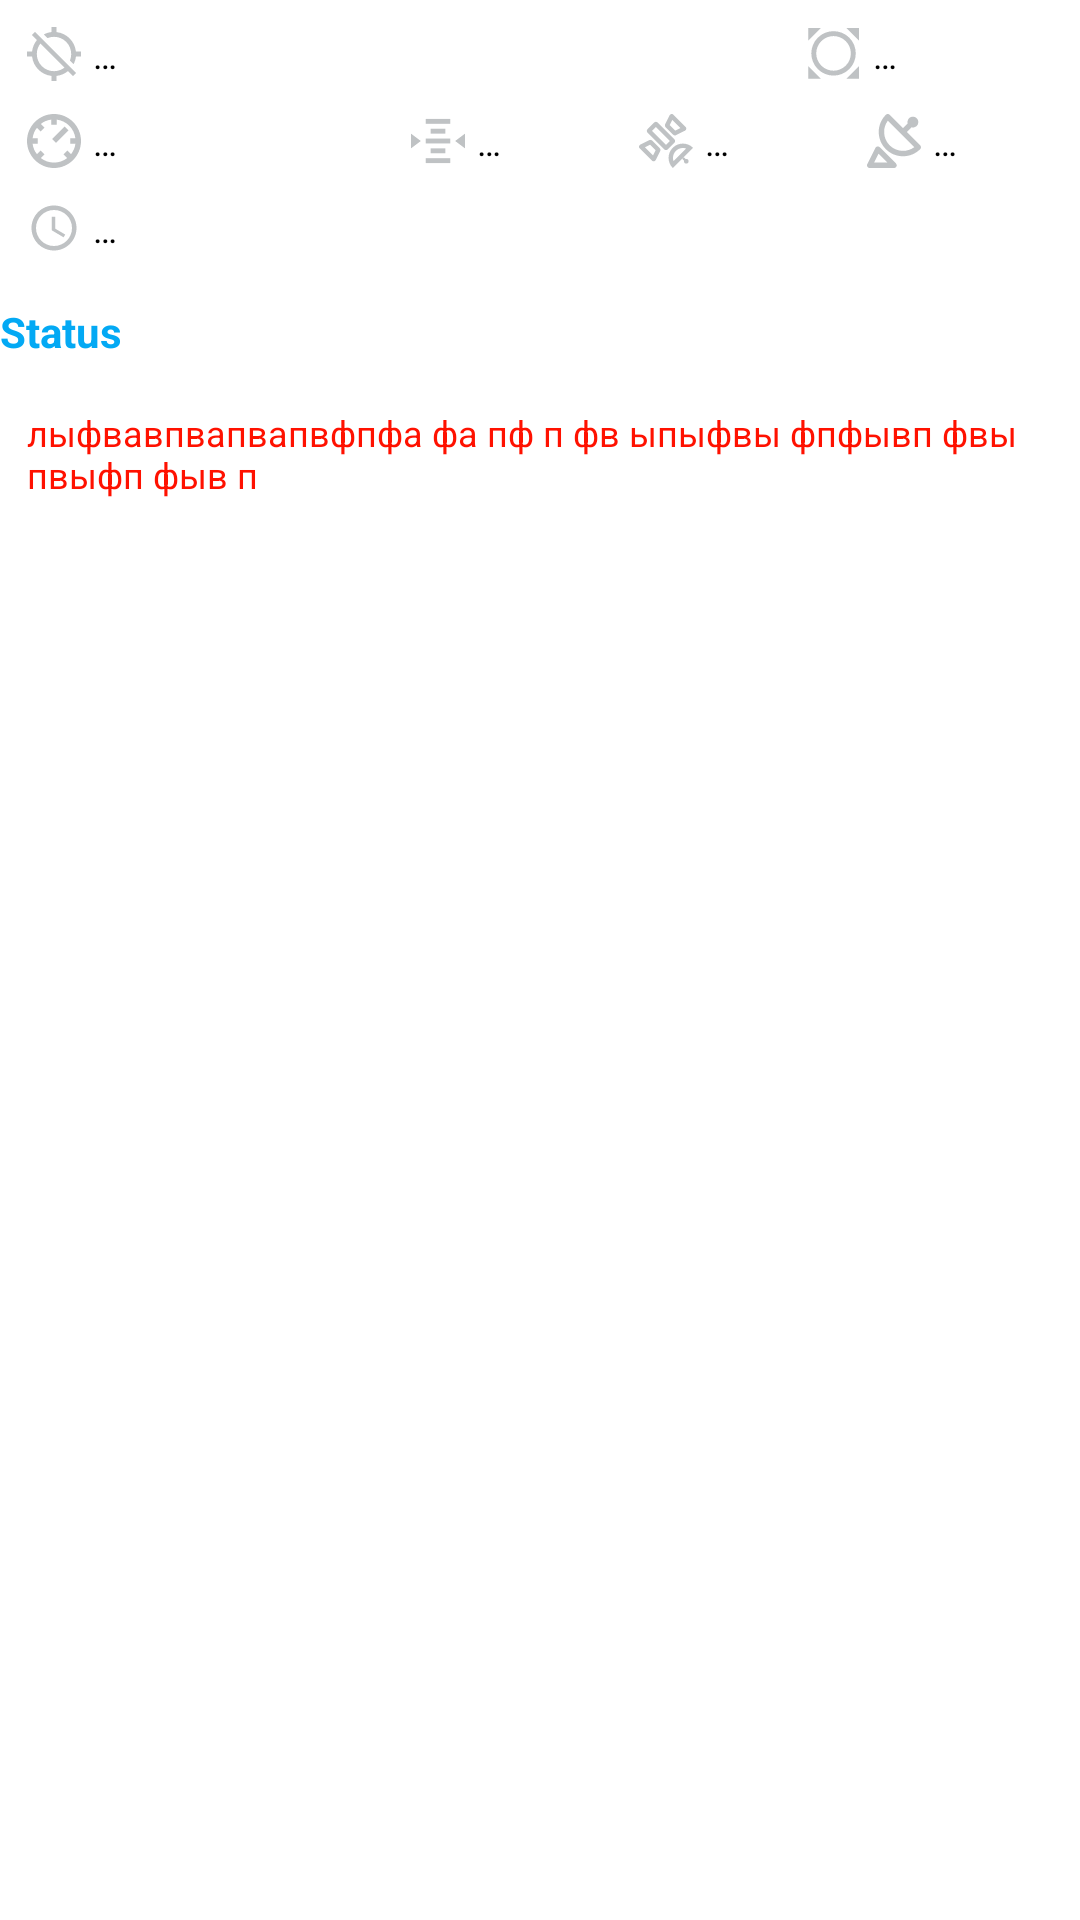

Icon click points for this 1080x1920 phone screenshot, format point (x, y):
Accuracy: point (833, 53)
Altitude: point (438, 141)
Current location: point (54, 54)
Satellite count: point (666, 141)
Signal source: point (894, 141)
speed: point (54, 141)
time: point (54, 228)
